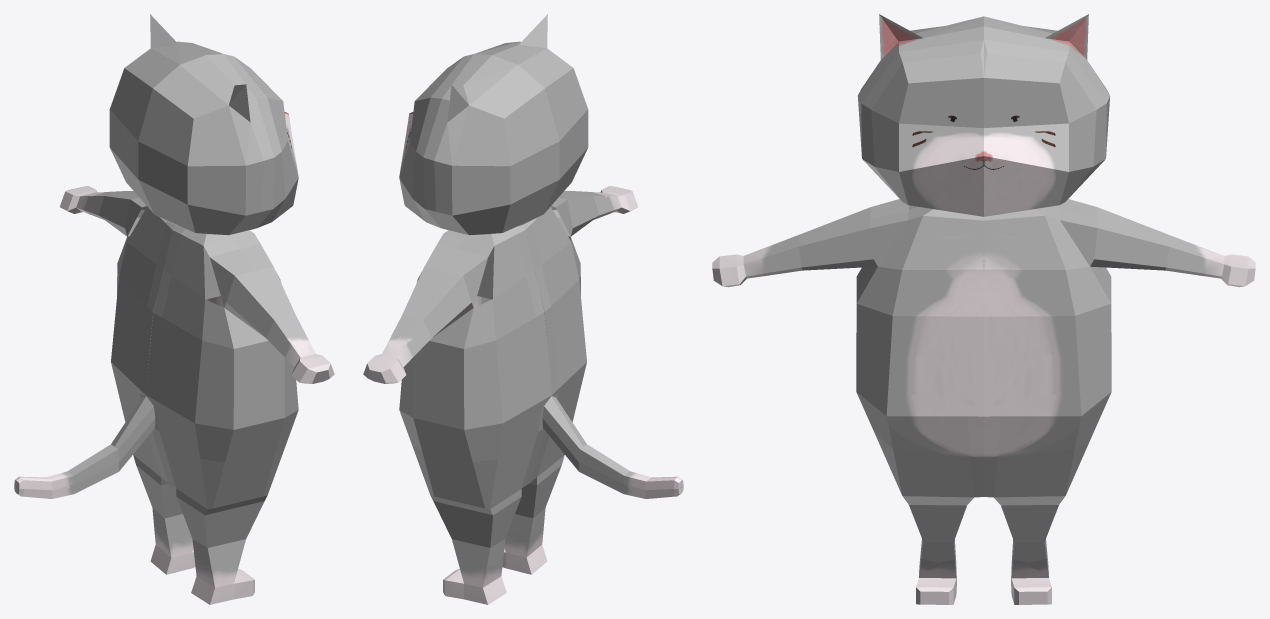
Rendered from cat_sensei.glb.
The picture shows the model from 3 angles, left to right: view 1: azimuth 30°, elevation 25°; view 2: azimuth 150°, elevation 25°; view 3: azimuth 270°, elevation 25°; orthographic projection. The views are drawn at different scales.
Parts seen in each view (by area): view 1: 立方体.001; view 2: 立方体.001; view 3: 立方体.001.
Part boxes in pixels (box(x1,y1,x2,y2)): 立方体.001: box(14, 14, 334, 604); 立方体.001: box(363, 14, 683, 604); 立方体.001: box(712, 14, 1255, 604).
Bounding box in the file's own units: 2.32 × 4.32 × 3.68.
1 material, 1 textured.
